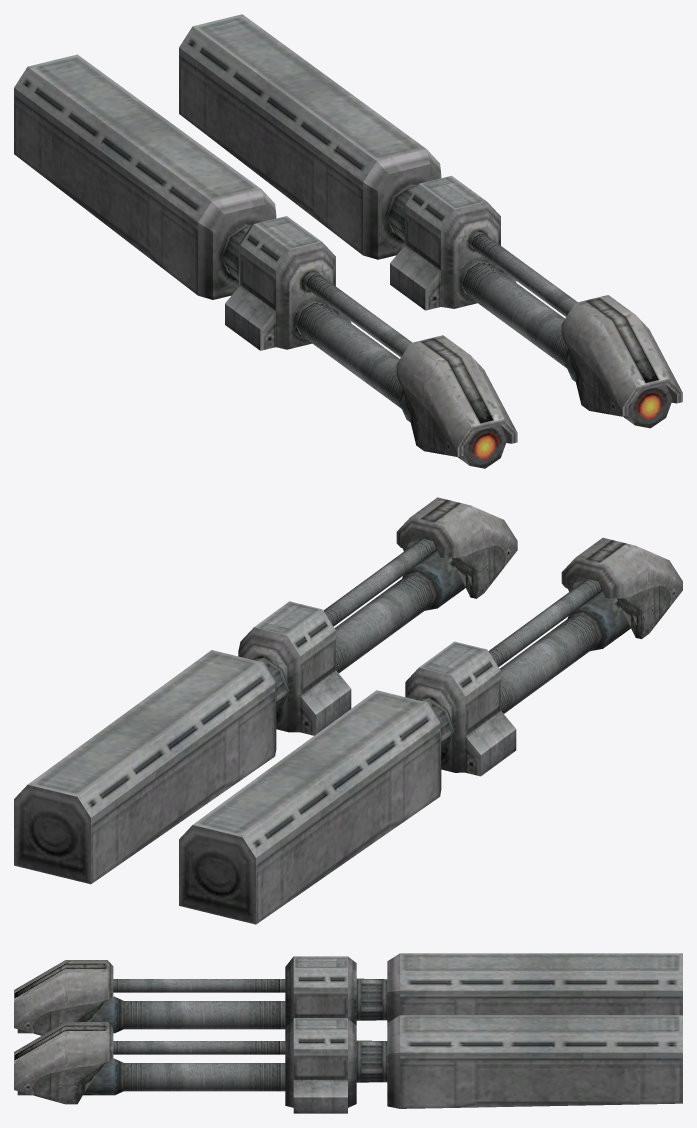
Rendered from bwing_weapon3_s06_l0.fbx.
3 renders of one model, top to bottom at view 1: azimuth 30°, elevation 25°; view 2: azimuth 150°, elevation 25°; view 3: azimuth 270°, elevation 25°, orthographic. The views are drawn at different scales.
Parts seen in each view (by area): view 1: mesh_node; view 2: mesh_node; view 3: mesh_node.
Boxes of the visible parts, box(x1,y1,x2,y2) form: mesh_node: box(14, 14, 682, 468); mesh_node: box(14, 497, 682, 924); mesh_node: box(14, 953, 682, 1113).
Size of the model in its own units: 0.9808 by 0.3437 by 2.89.
